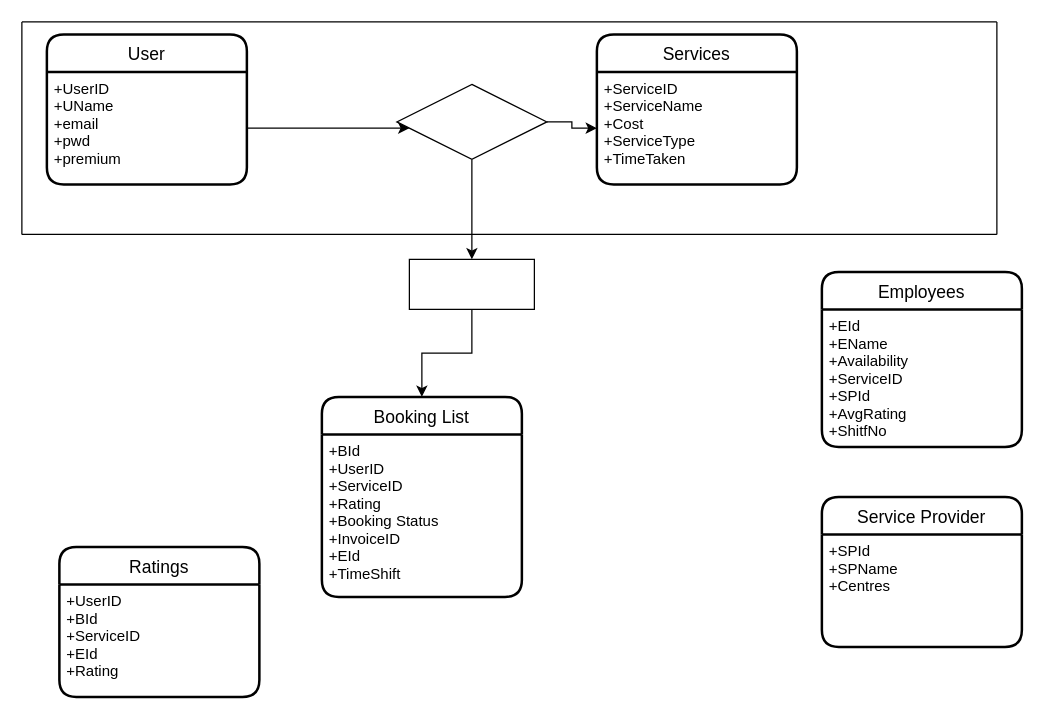
Image size: 1045x720. Some labels were removed from this diagram. The centre of each missing label's shape, as x and y in pixels:
Bookings: the point at 471,283
Relationship: the point at 471,121
